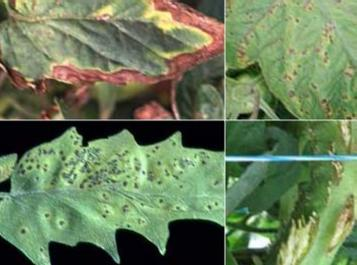Tomato leaf bacterial spot: (0, 130, 224, 256), (4, 0, 220, 109), (236, 0, 357, 114)
